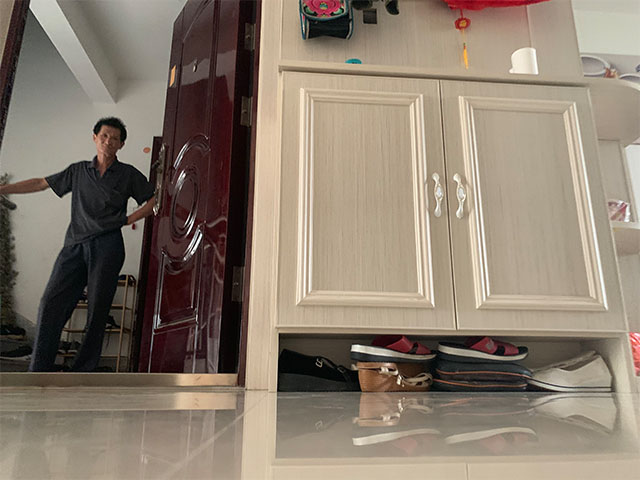cabinet: (253, 57, 640, 396)
